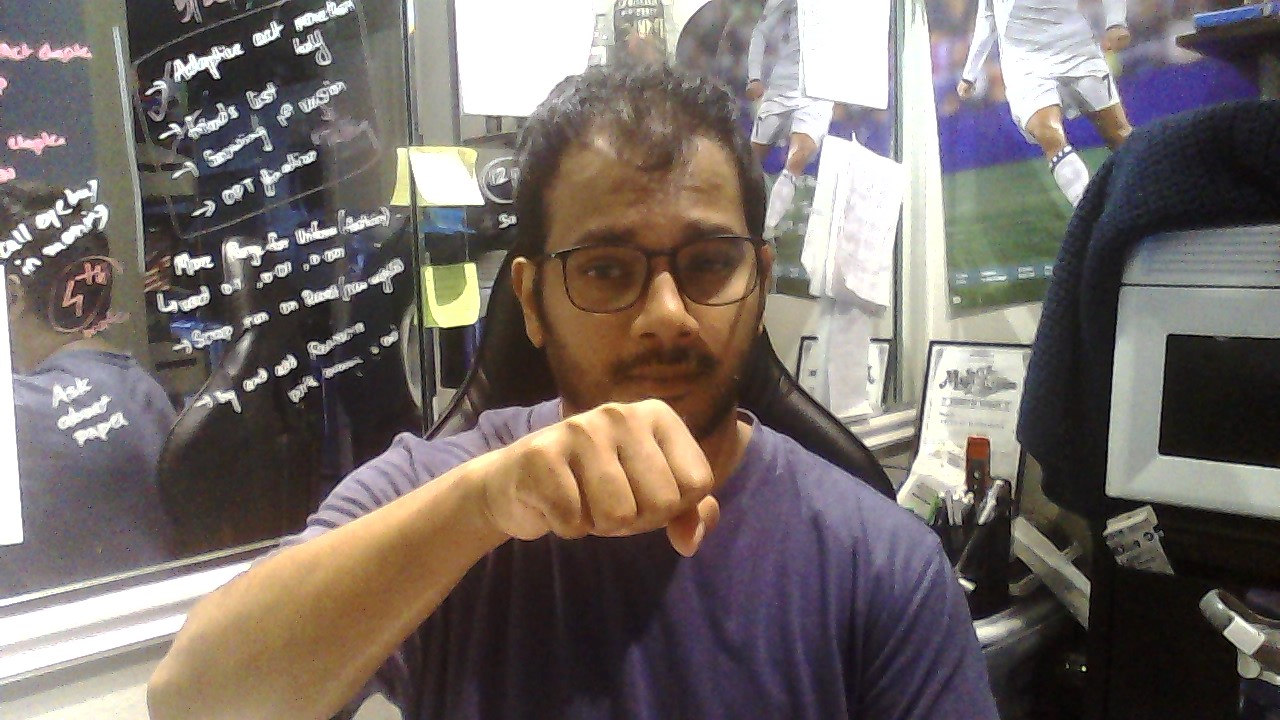Yes: (485, 397, 720, 557)
